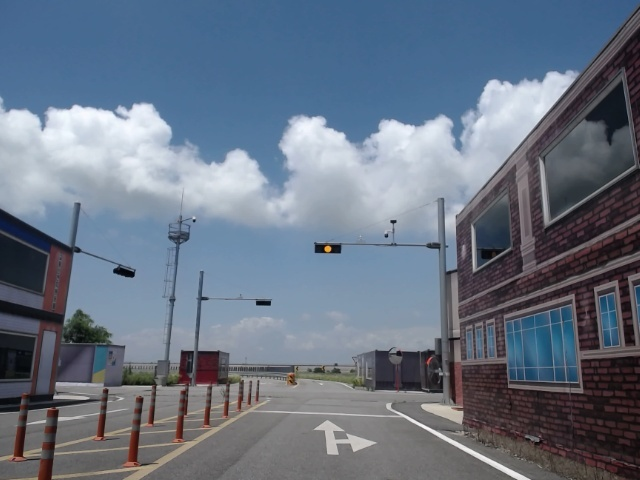orange_3: (314, 242, 341, 254)
